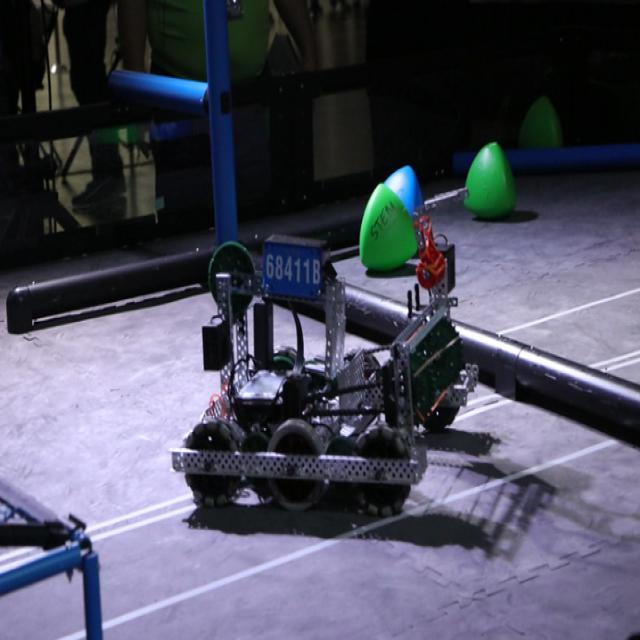License-Plates: (261, 240, 329, 306)
